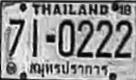0: (58, 18, 74, 56)
1: (32, 18, 37, 56)
2: (114, 19, 132, 57), (76, 19, 93, 57), (96, 19, 112, 57)
7: (8, 18, 24, 56)
SPK: (28, 60, 109, 78)
